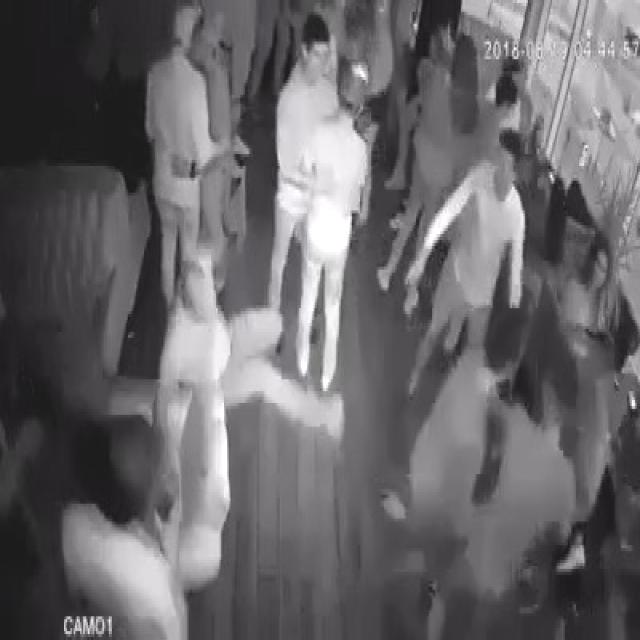fight: (161, 255, 354, 447)
